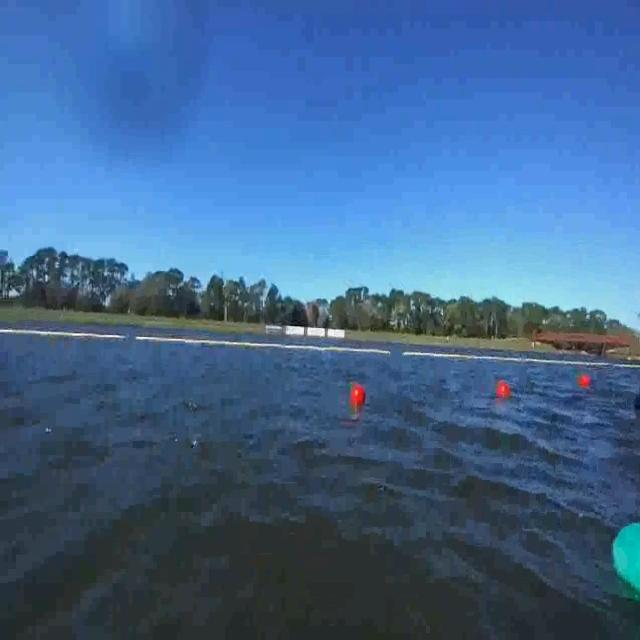black-buoy: (634, 390, 640, 413)
green-buoy: (608, 518, 640, 610)
red-buoy: (352, 383, 366, 405), (496, 379, 511, 398), (581, 376, 592, 389)
